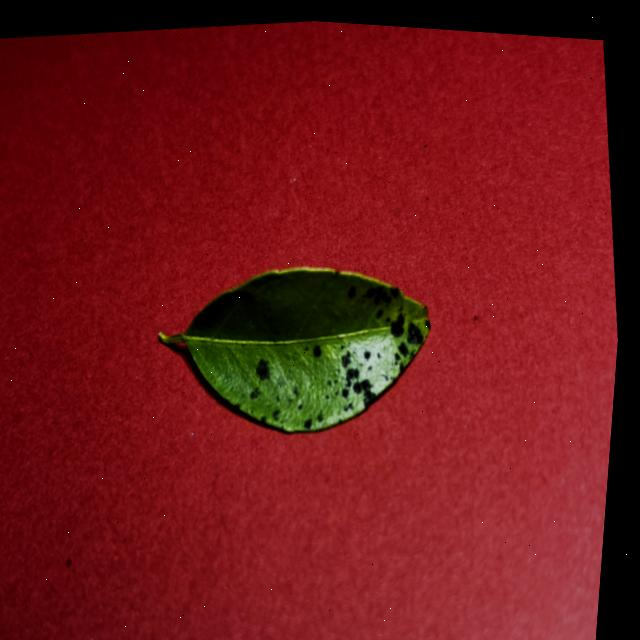sooty_mold: (167, 267, 430, 431)
